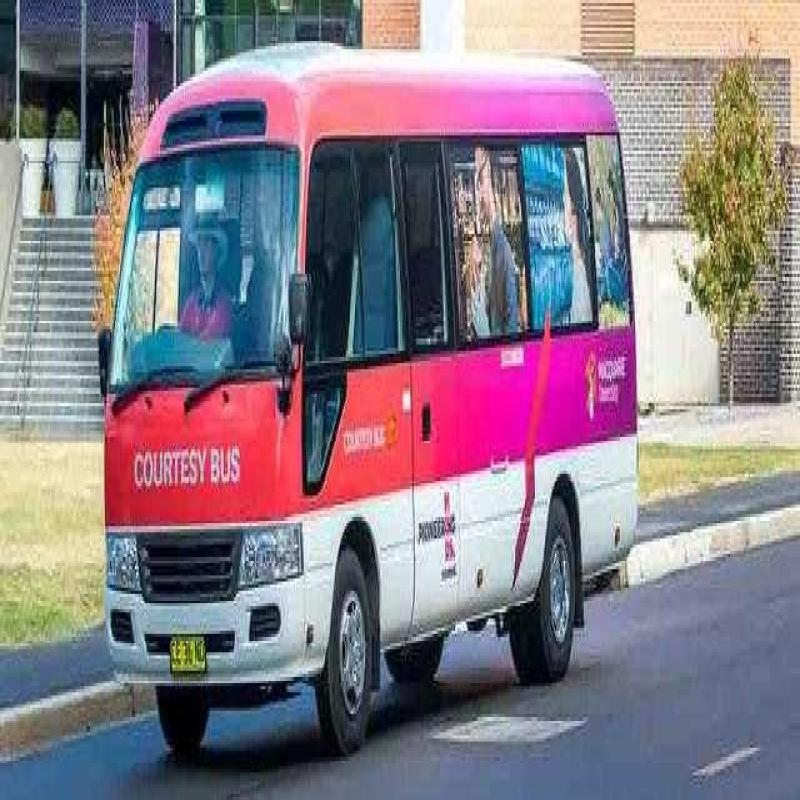bus: (100, 35, 646, 728)
